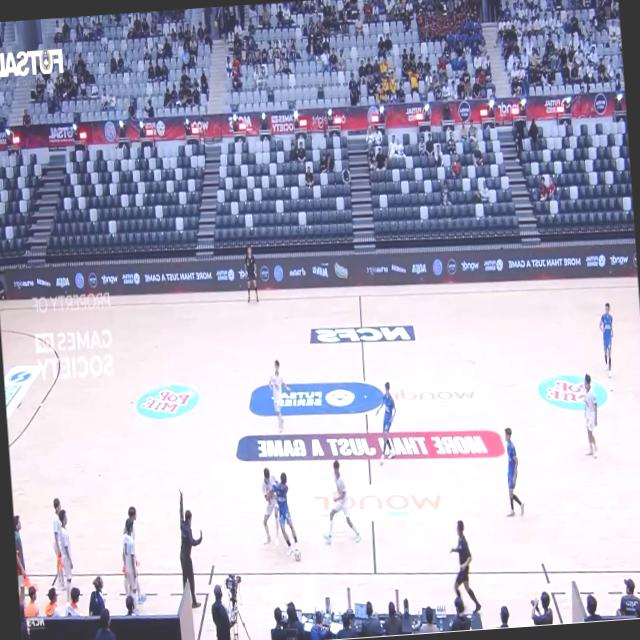referee: (450, 520, 480, 612), (243, 246, 258, 302)
